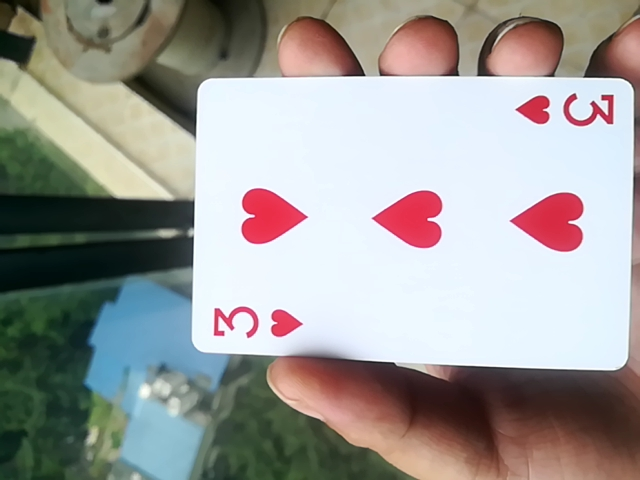hx 3: (183, 73, 632, 383)
